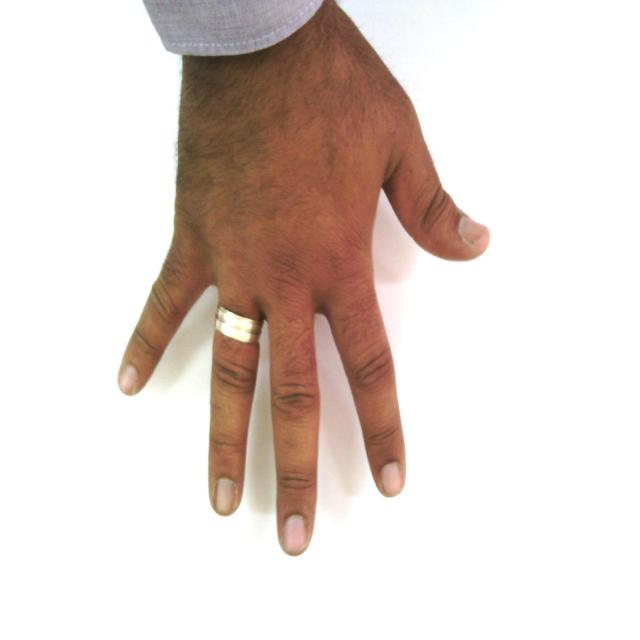Fingernail: (284, 514, 307, 554), (459, 216, 487, 247), (216, 478, 236, 516), (381, 463, 402, 495), (120, 365, 137, 394)
